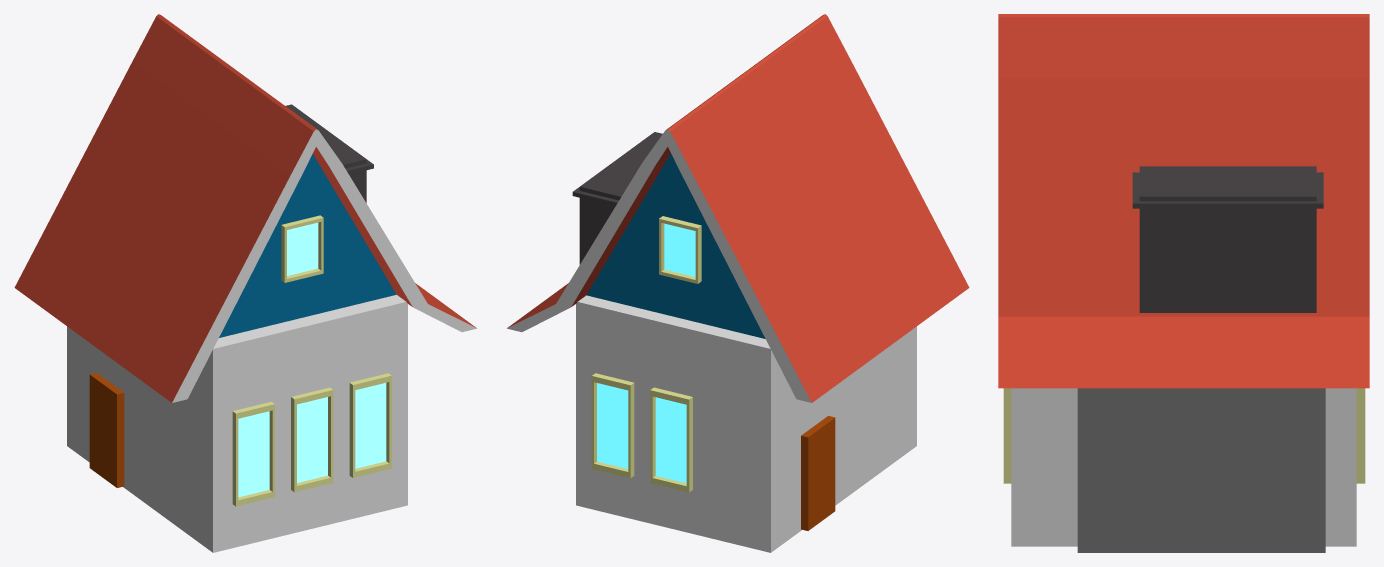
The model's file is D_House1.fbx.
The picture shows the model from 3 angles, left to right: view 1: azimuth 30°, elevation 25°; view 2: azimuth 150°, elevation 25°; view 3: azimuth 270°, elevation 25°; orthographic projection. The views are drawn at different scales.
Visible parts, largest first — view 1: Cube.013; view 2: Cube.013; view 3: Cube.013.
Part boxes in pixels (<box>): Cube.013: <box>14,14,476,552</box>; Cube.013: <box>507,14,969,552</box>; Cube.013: <box>998,14,1369,552</box>.
Size of the model in its own units: 470 by 594 by 420.
